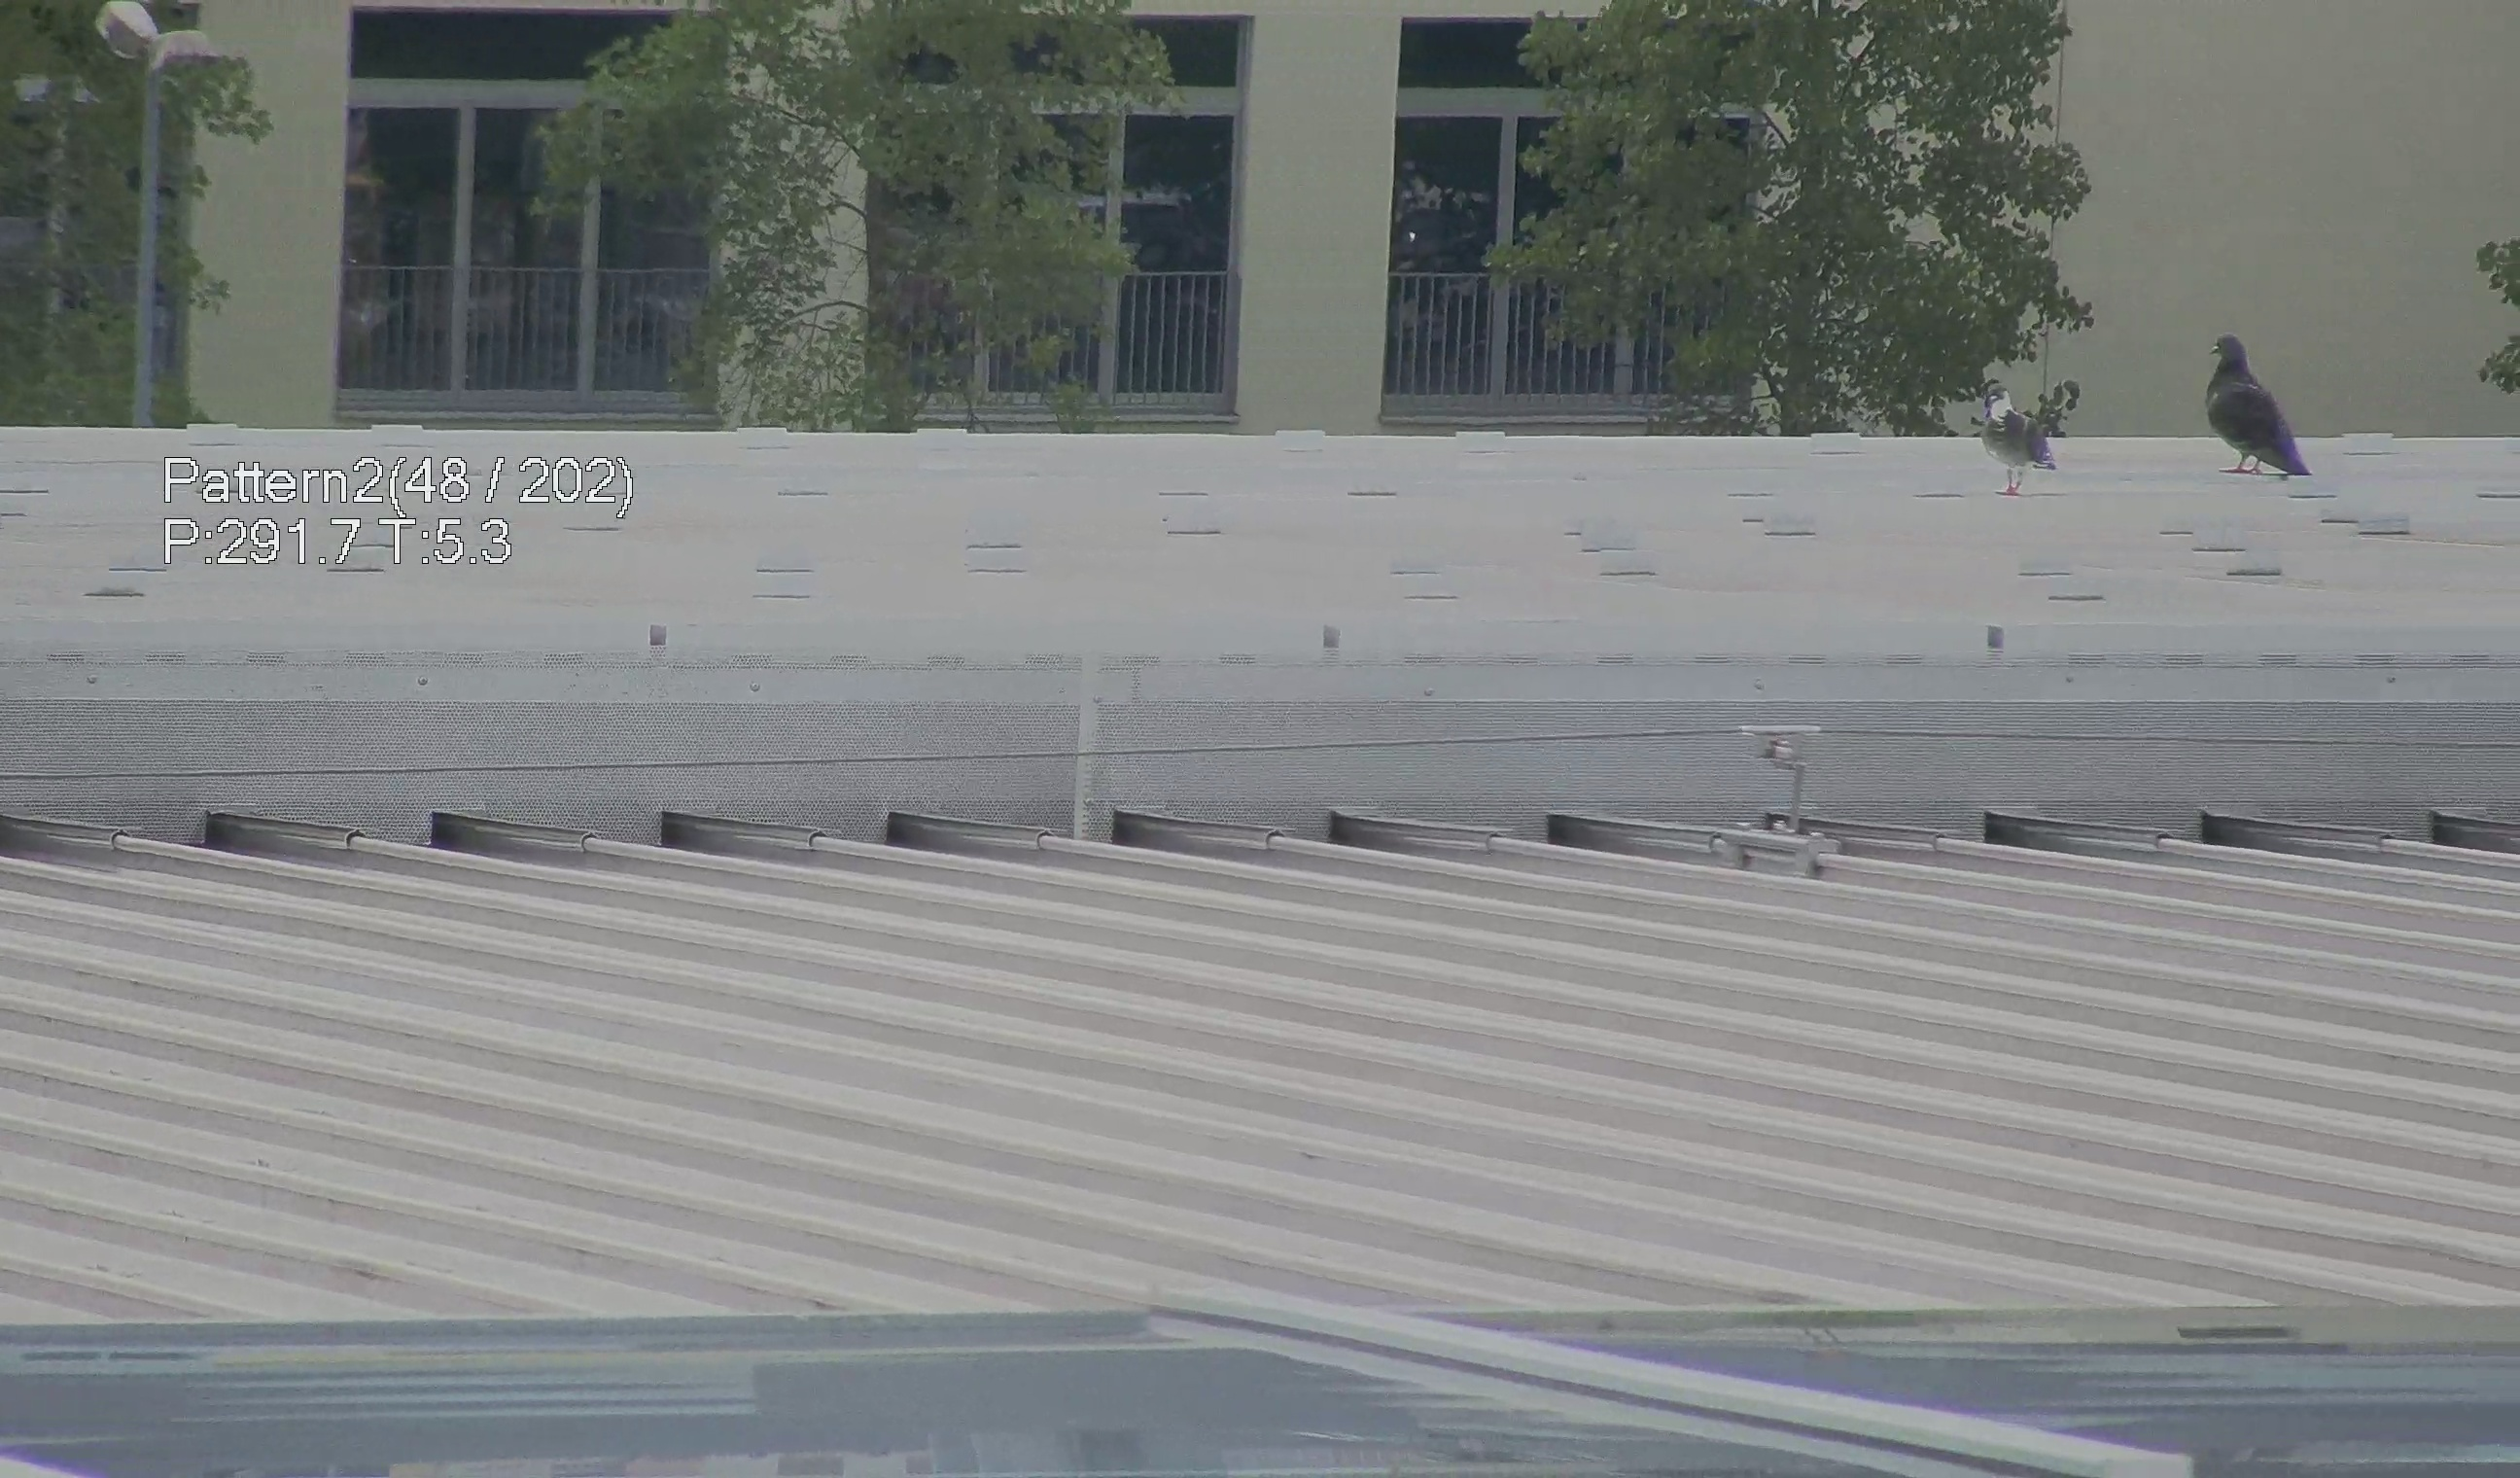Pigeon: (2203, 311, 2321, 484), (1980, 362, 2098, 491)
